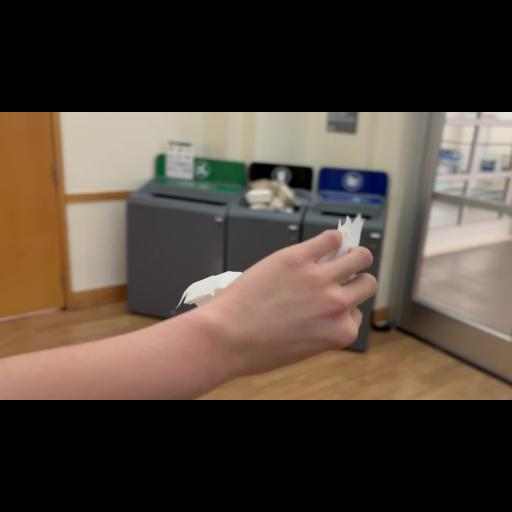napkin: (162, 207, 390, 359)
